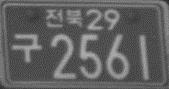1: (138, 33, 151, 81)
2: (50, 32, 78, 82), (84, 7, 104, 32)
5: (78, 32, 102, 80)
6: (105, 32, 132, 82)
9: (104, 7, 121, 32)
구: (9, 31, 43, 64)
전북_O: (44, 8, 83, 28)
